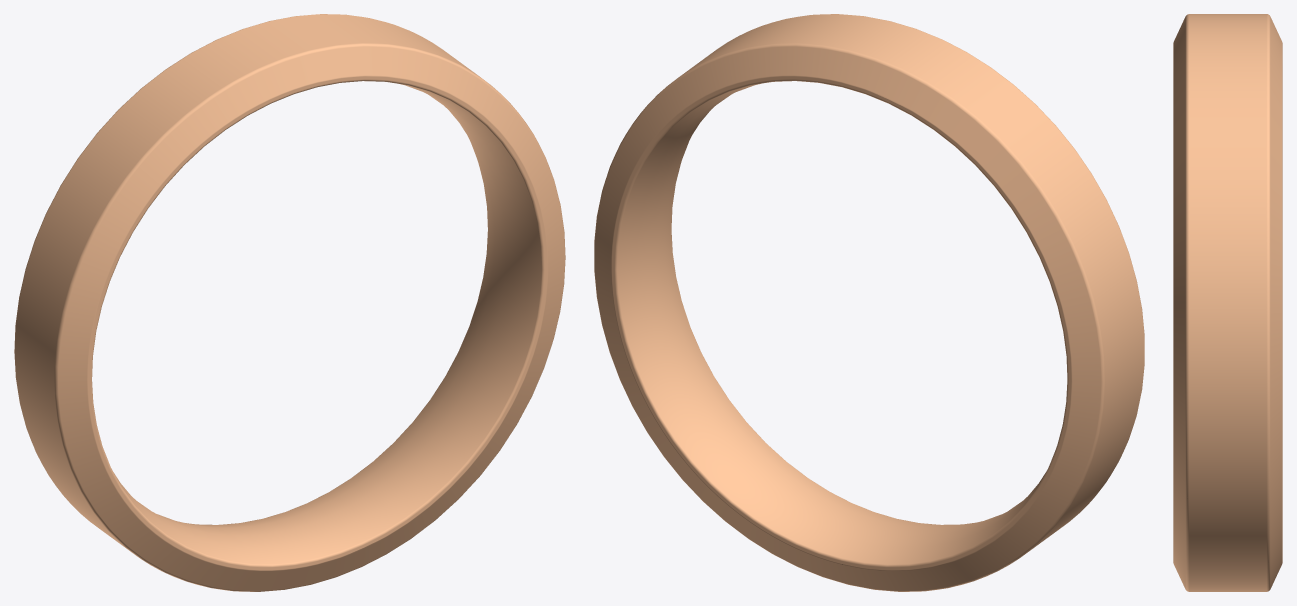
The model's file is ring_01.glb.
3 views of the same model, side by side, from view 1: azimuth 30°, elevation 25°; view 2: azimuth 150°, elevation 25°; view 3: azimuth 270°, elevation 25° (orthographic).
Visible parts, largest first — view 1: Metal 01; view 2: Metal 01; view 3: Metal 01.
Boxes of the visible parts, box(x1,y1,x2,y2) form: Metal 01: box(14, 14, 565, 591); Metal 01: box(594, 14, 1144, 591); Metal 01: box(1173, 14, 1282, 591).
Size of the model in its own units: 0.0212 by 0.0212 by 0.004.
